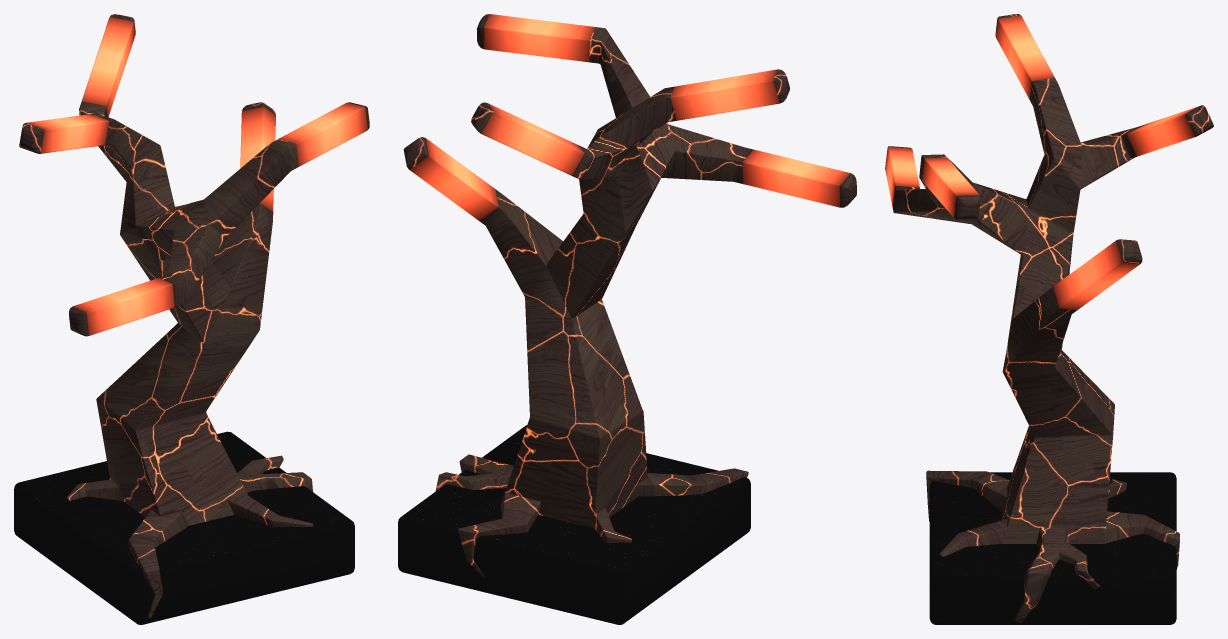
The model's file is tree_lamp.glb.
3 renders of one model, left to right at view 1: azimuth 30°, elevation 25°; view 2: azimuth 150°, elevation 25°; view 3: azimuth 270°, elevation 25°, orthographic. The views are drawn at different scales.
Parts seen in each view (by area): view 1: Plane.001, Cube; view 2: Plane.001, Cube; view 3: Plane.001, Cube.
Part boxes in pixels (<box>): Plane.001: <box>19,14,369,618</box>; Cube: <box>14,431,354,624</box>; Plane.001: <box>403,14,856,576</box>; Cube: <box>398,425,750,624</box>; Plane.001: <box>885,14,1213,623</box>; Cube: <box>929,472,1176,624</box>.
Size of the model in its own units: 3.61 by 5.11 by 3.2.
Materials: 2 (2 with a texture image).
